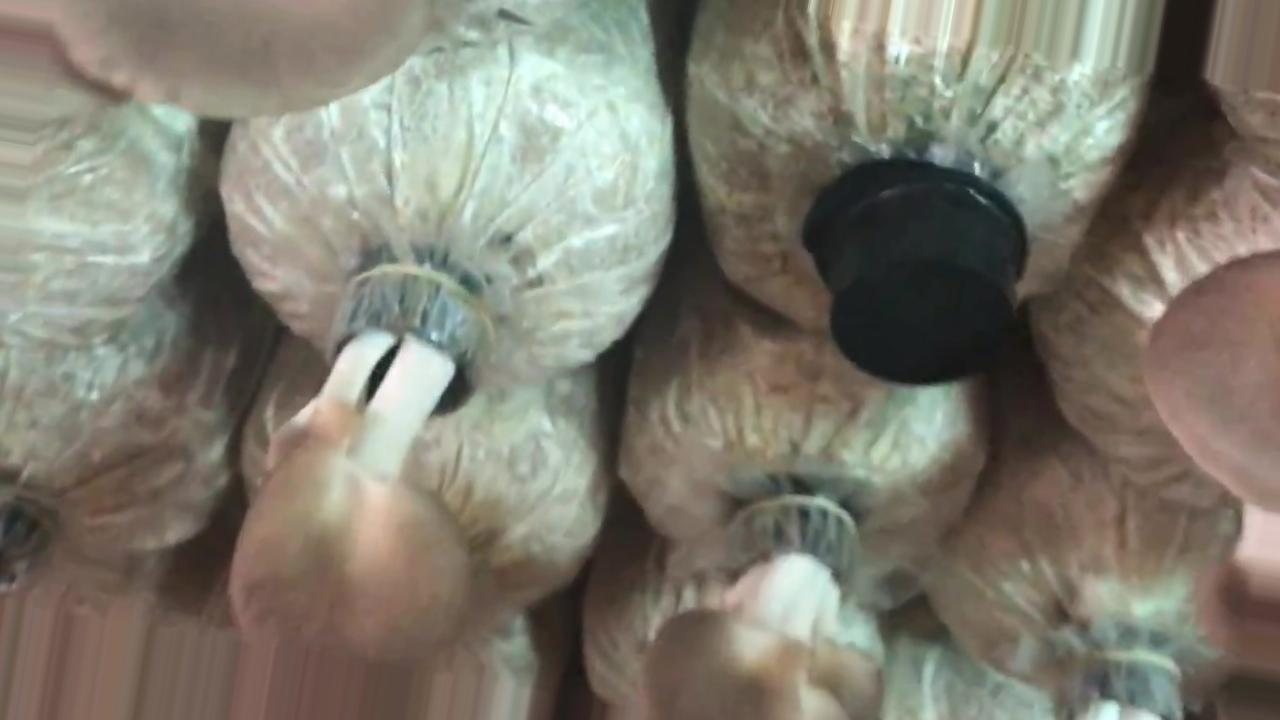nam: (236, 274, 485, 639), (645, 490, 880, 720), (1, 3, 429, 118), (1148, 255, 1280, 511)
